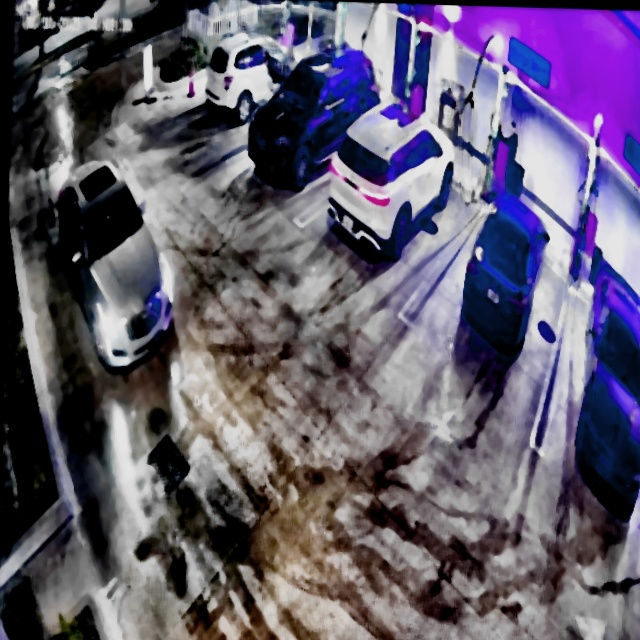Car: (54, 151, 180, 369), (327, 95, 455, 260), (246, 40, 380, 189), (462, 188, 550, 354)
